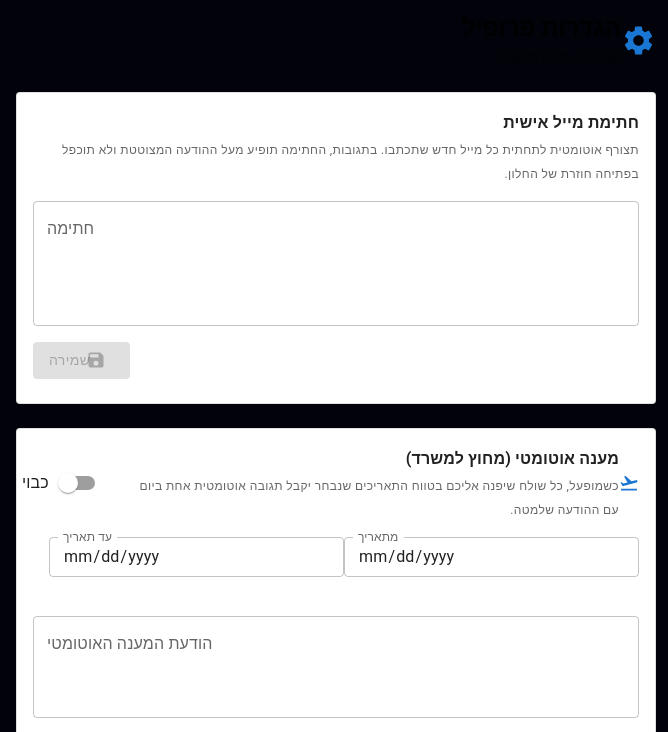
Test case: ProfileSettings — out-of-office / auto-responder (TODO_SPEC.md "משימה 18") › flags an end date before the start date and disables saving
Click the checkbox with test id "auto-responder-toggle" at [58, 482], box [22,472,95,492]
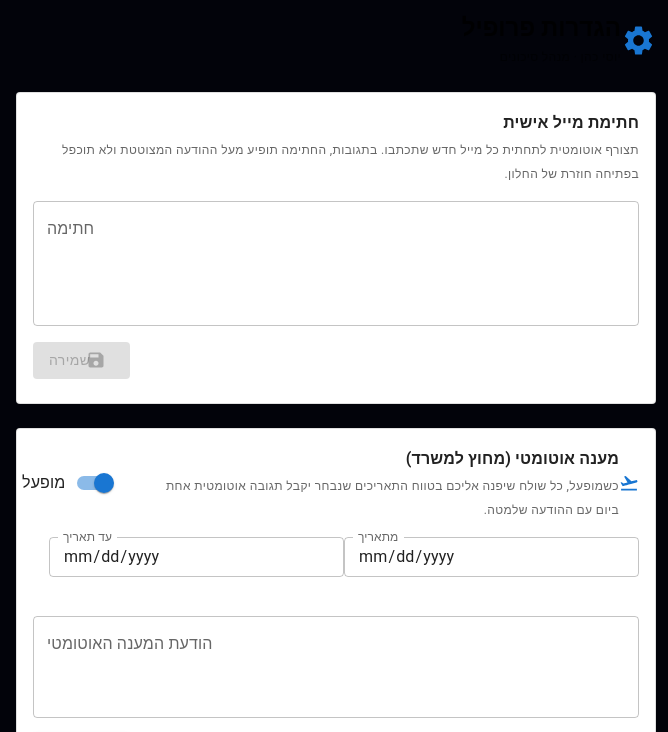
Type "2026-05-10" into the date field with test id "auto-responder-start" at [492, 556], box [344,536,639,576]
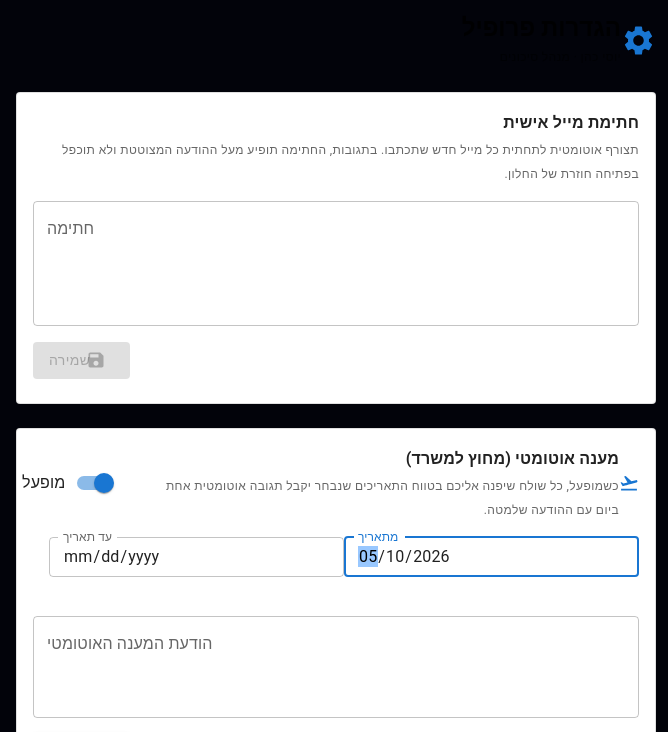
Type "2026-05-01" into the date field with test id "auto-responder-end" at [196, 556], box [49,536,344,576]
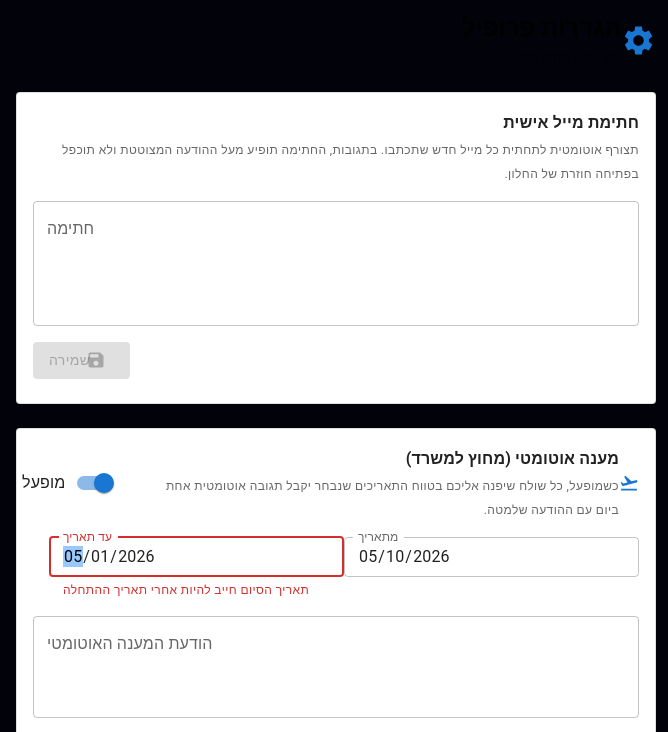
Check: the text "תאריך הסיום חייב להיות אחרי תאריך ההתחלה" is shown, box [63,580,330,600]
